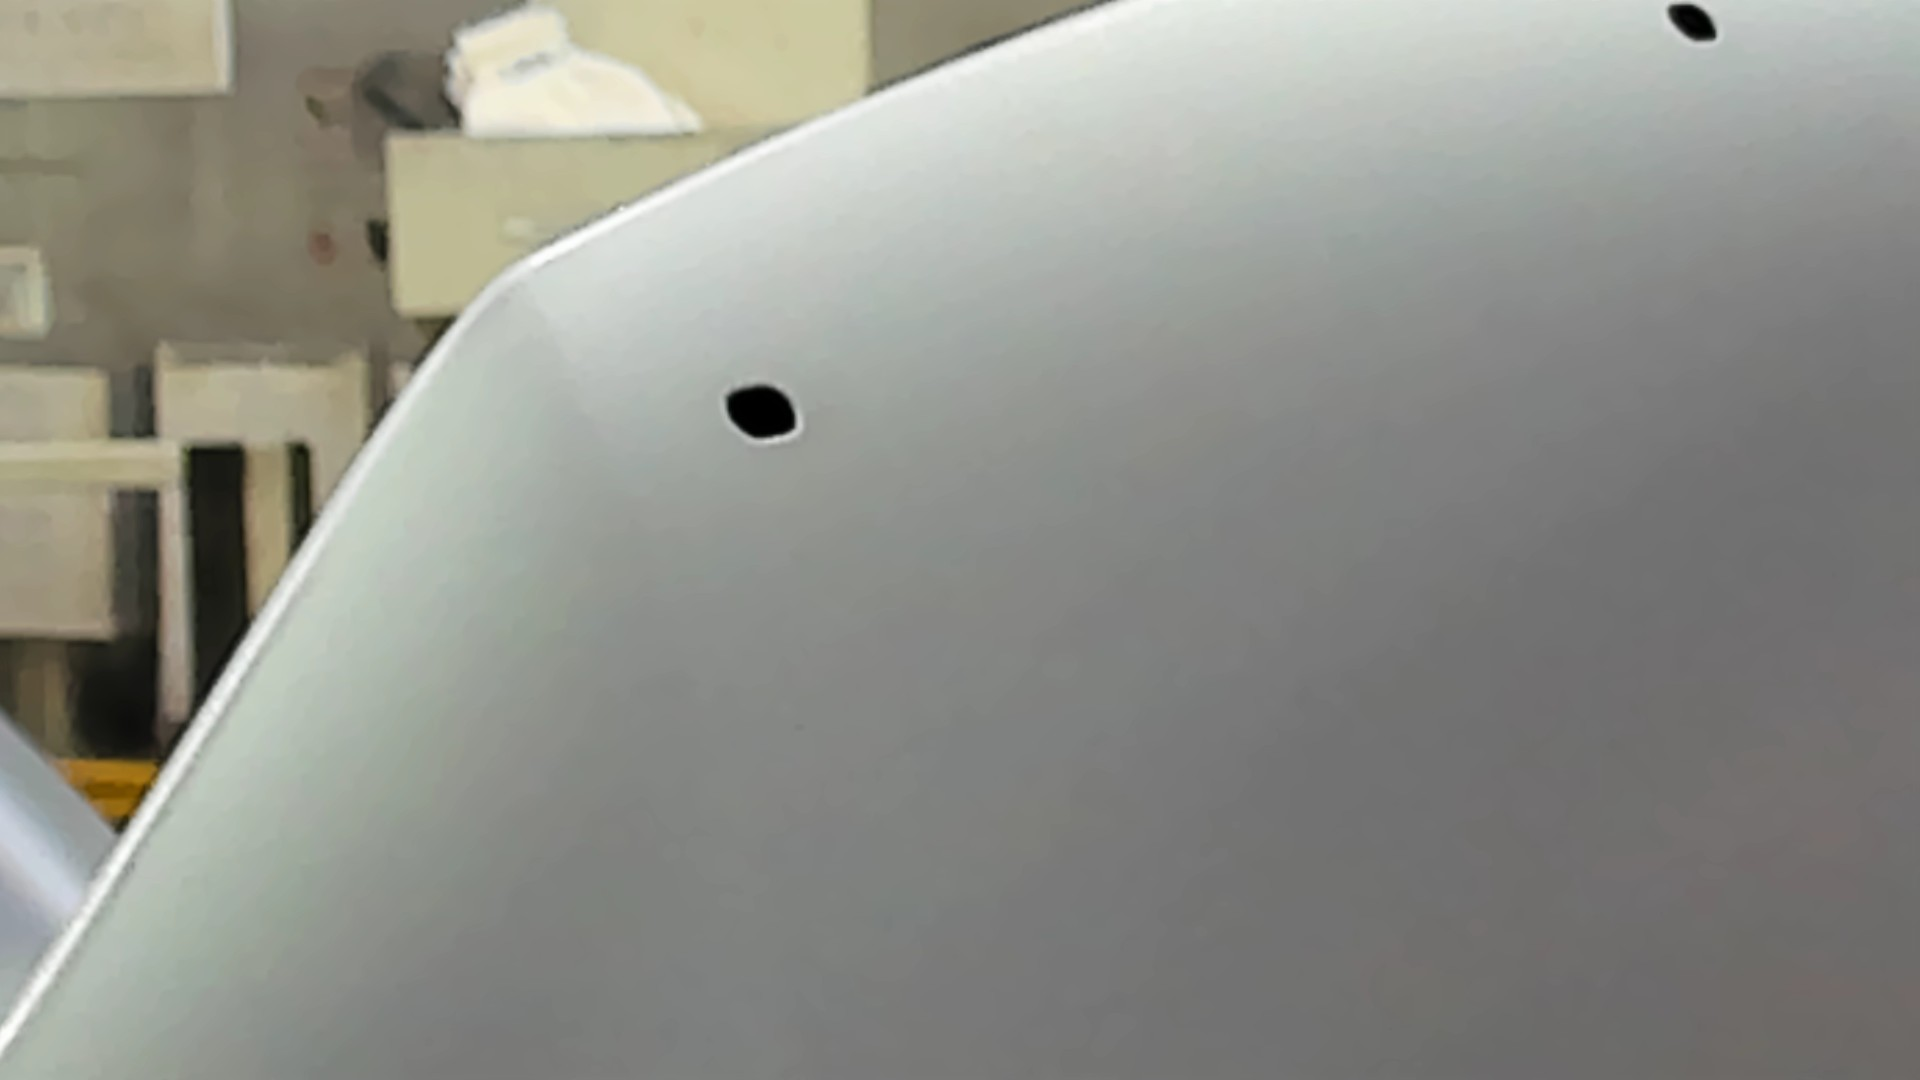amorfo: (720, 376, 804, 451), (1662, 1, 1724, 49)
